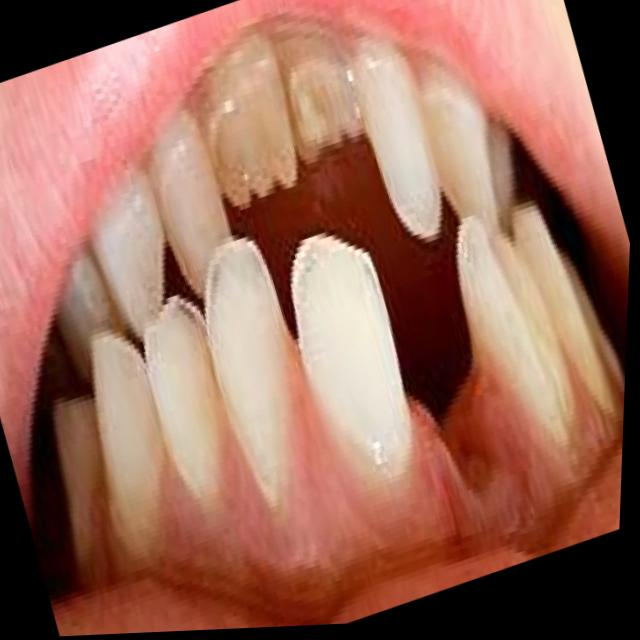hypodontia: (258, 210, 624, 562)
